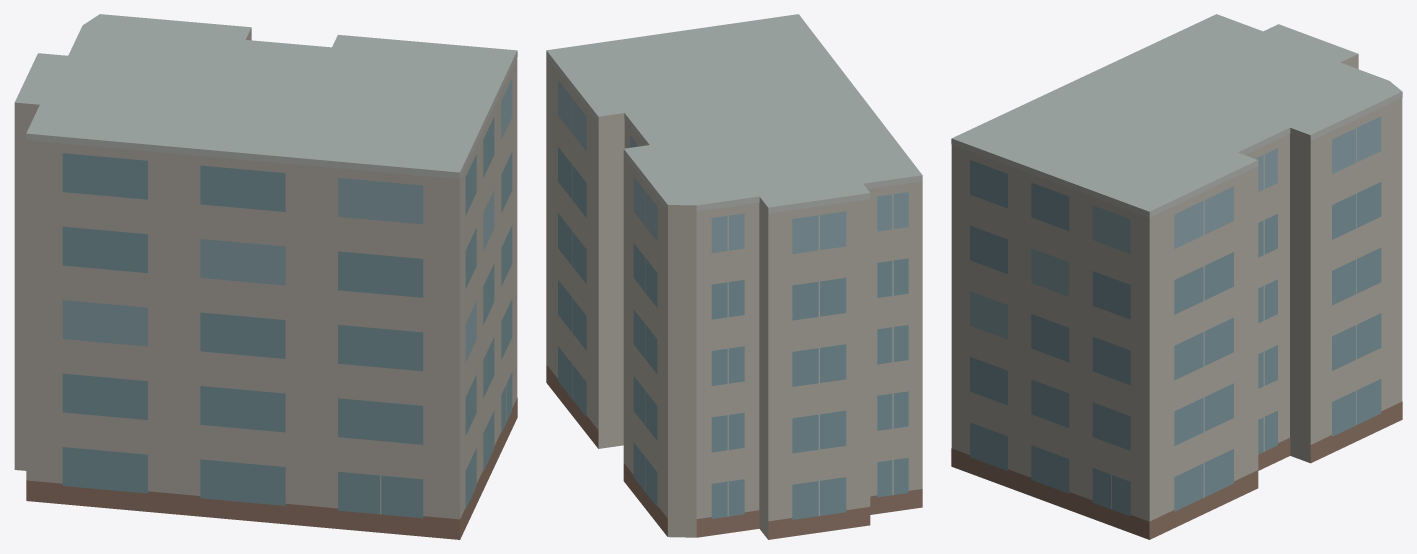
File: survey-upis-32966239.glb
The picture shows the model from 3 angles, left to right: view 1: azimuth 30°, elevation 25°; view 2: azimuth 150°, elevation 25°; view 3: azimuth 270°, elevation 25°; orthographic projection. The views are drawn at different scales.
Parts seen in each view (by area): view 1: survey-upis-32966239.tmp; view 2: survey-upis-32966239.tmp; view 3: survey-upis-32966239.tmp.
Boxes of the visible parts, <box> form: survey-upis-32966239.tmp: <box>14,14,517,539</box>; survey-upis-32966239.tmp: <box>546,14,922,539</box>; survey-upis-32966239.tmp: <box>951,14,1402,539</box>.
Bounding box in the file's own units: 17.26 × 13.35 × 16.64.
